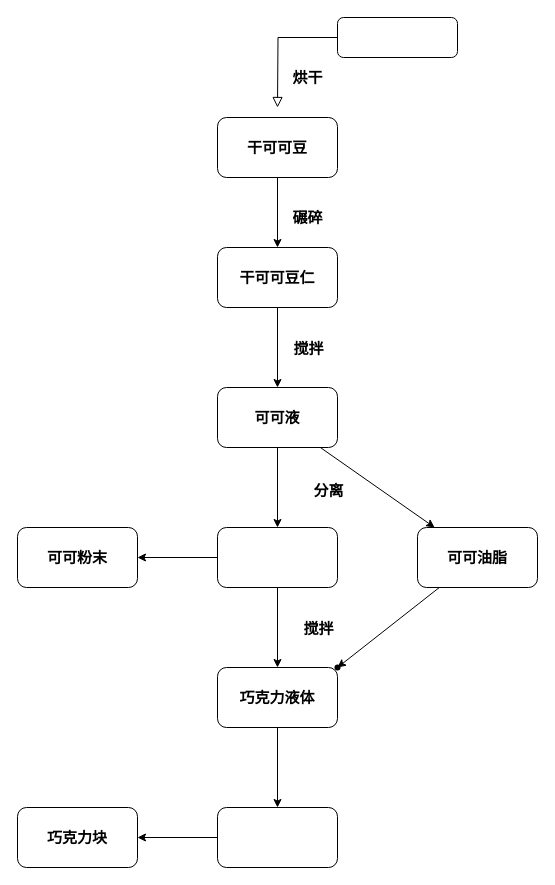
Some shapes in this 555 by 885 pixel diagram are drawn without their labels. Here are the shapes that lost their labels. From the top down, the centre of each, then its label:
point (397, 37): 可可豆
point (277, 557): 可可块
point (277, 837): 巧克力注模
